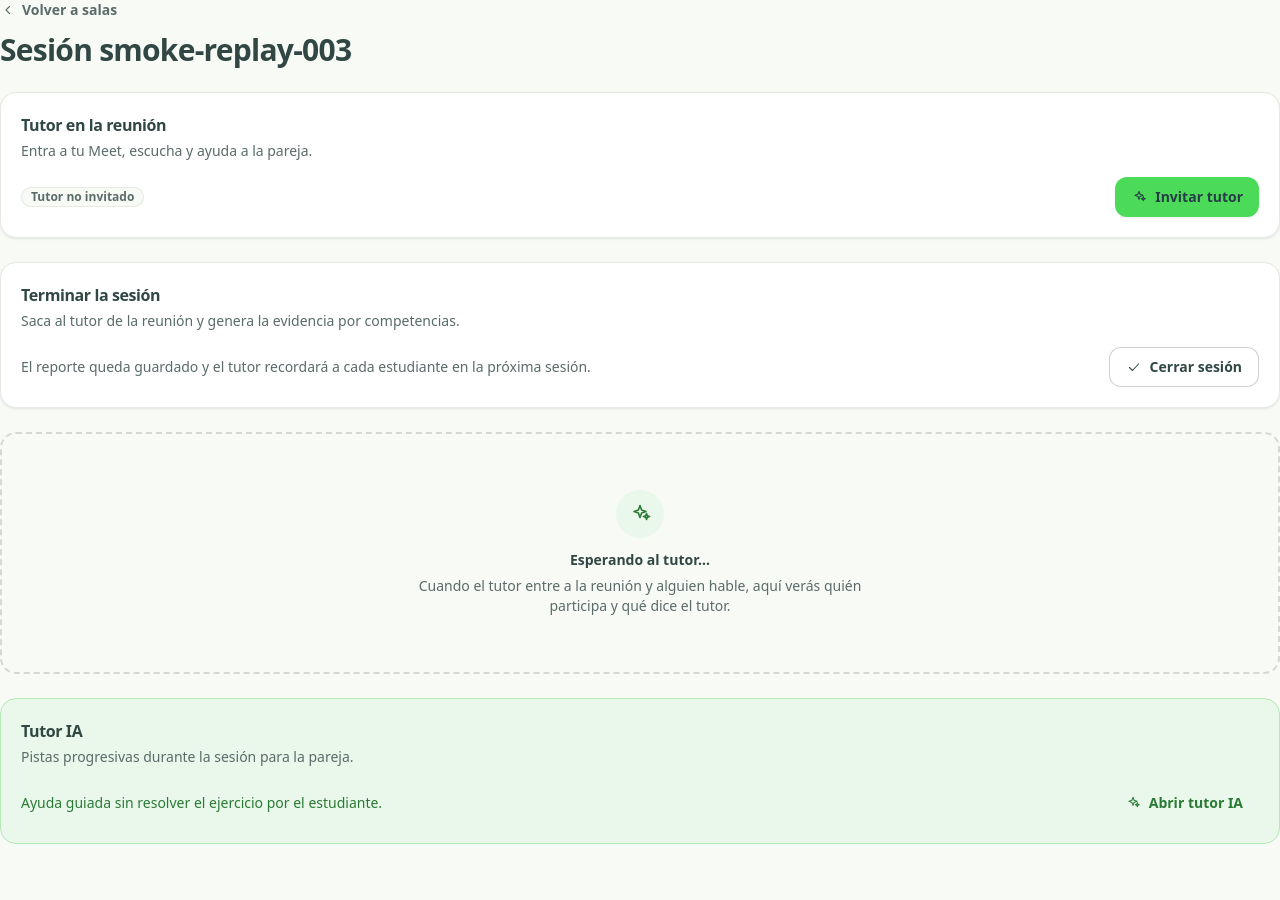
SessionDetailPage › invites the tutor with the session id and confirms
The width and height of the screenshot is (1280, 900).
Click the button "Invitar tutor" at (1187, 197), box [1115, 177, 1259, 217]
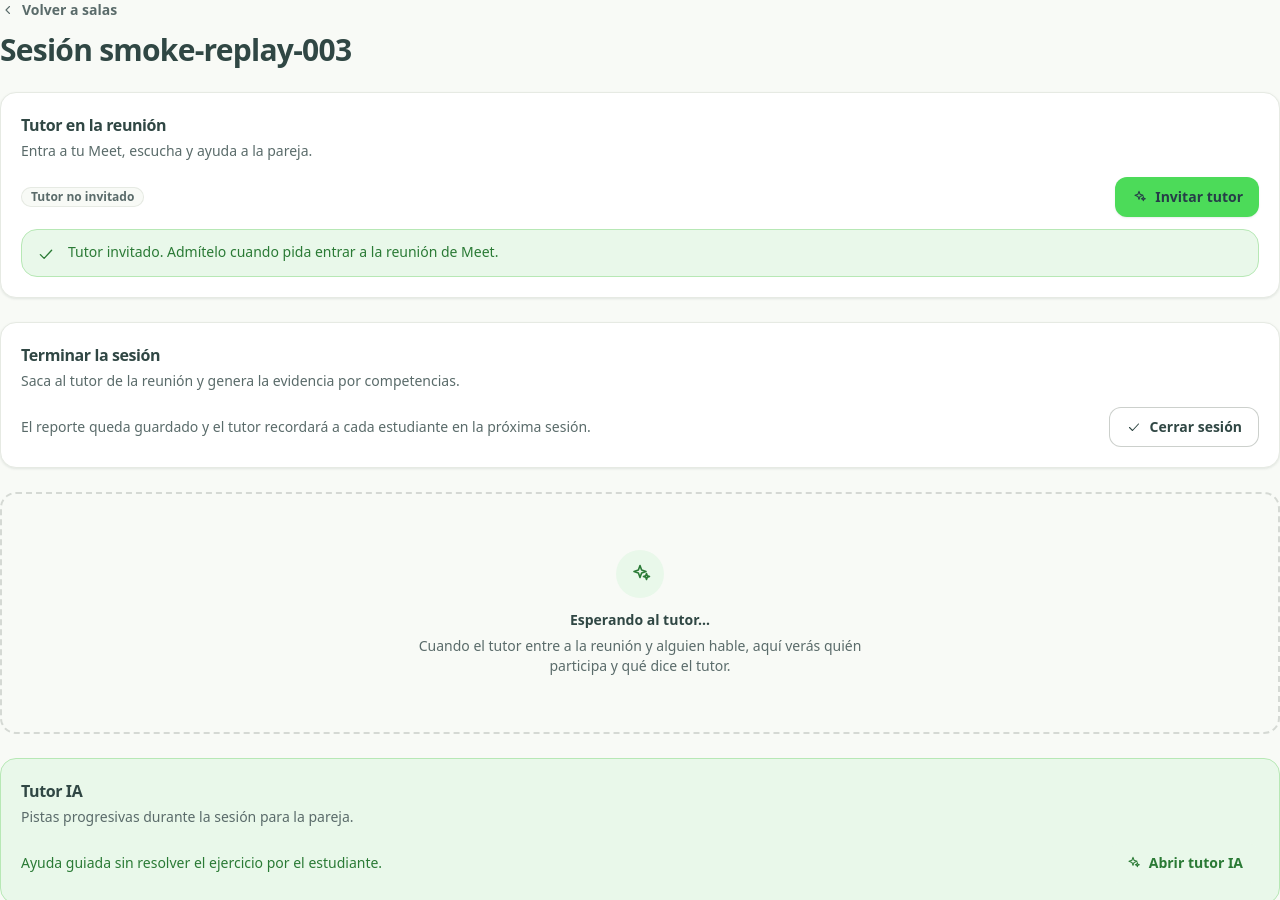
Expected: the text "Tutor invitado. Admítelo" is shown, [68, 242, 498, 261]
